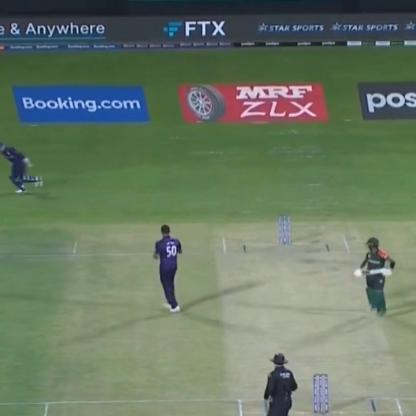pitch: (207, 222, 415, 416)
